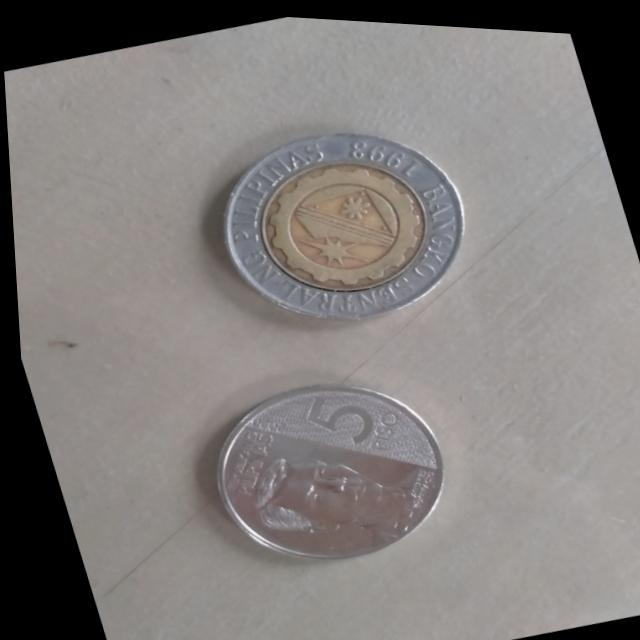10_Old_Back: (199, 93, 487, 343)
5_New_Front: (283, 367, 422, 468)
